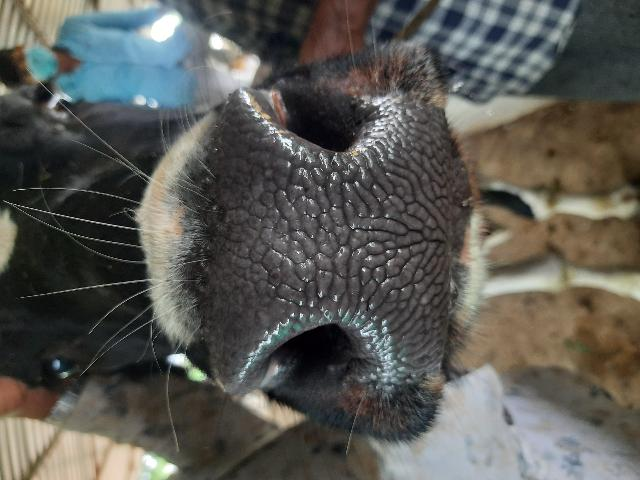Muzzle: (220, 136, 448, 328)
